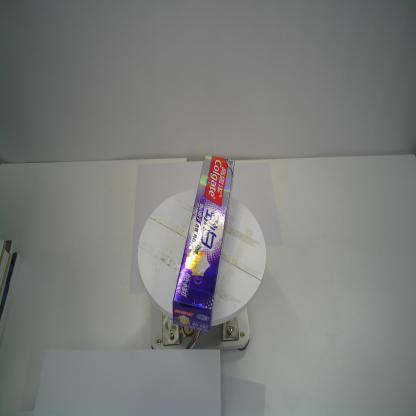Personal Hygiene: (172, 154, 236, 334)
